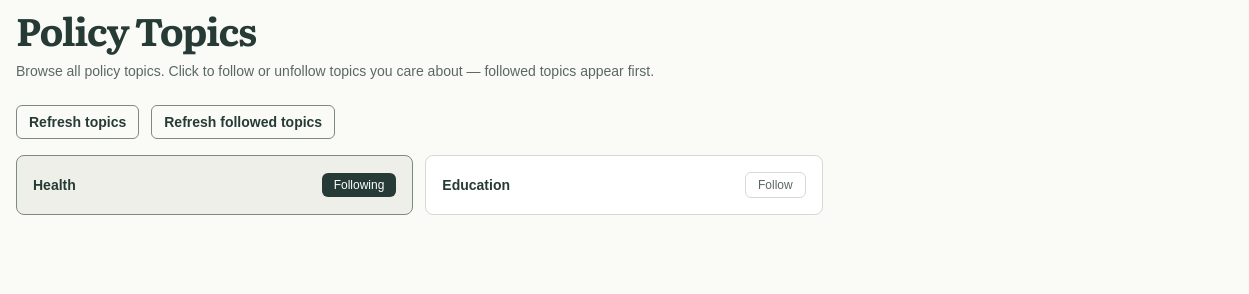
Test: TopicsPage › shows an error when a topic tracking request fails
expect the button "Following" is shown: met, box left=322, top=173, right=396, bottom=197
Click the button "Follow". click: x=775, y=185
box: left=745, top=172, right=806, bottom=198
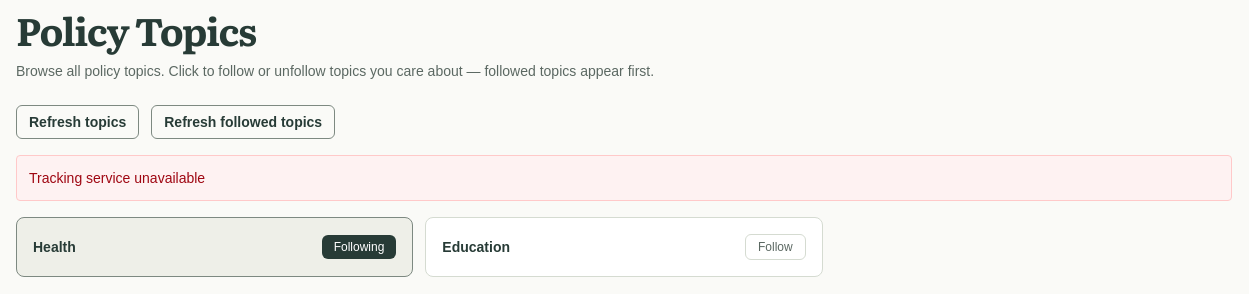
expect the button "Follow" is enabled: met, box left=745, top=234, right=806, bottom=260
expect the message reads "Tracking service unavailable": met, box left=29, top=170, right=205, bottom=186
